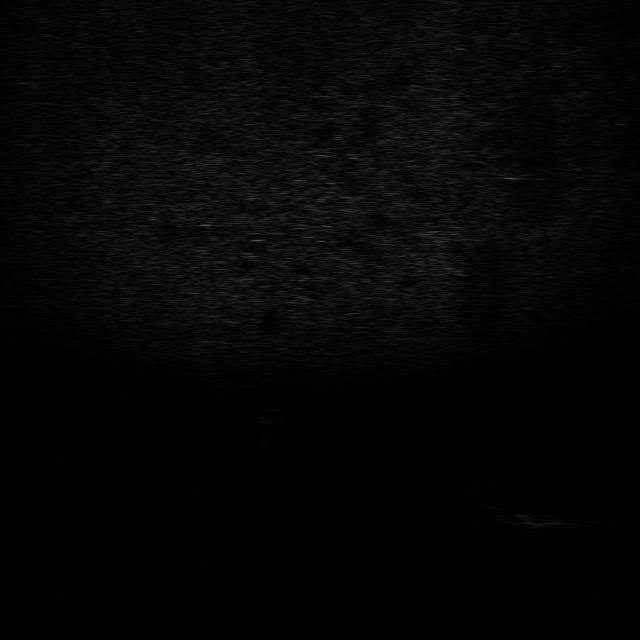ball: (254, 406, 286, 426)
metal bucket: (498, 508, 574, 531)
tyre: (458, 480, 502, 515)
